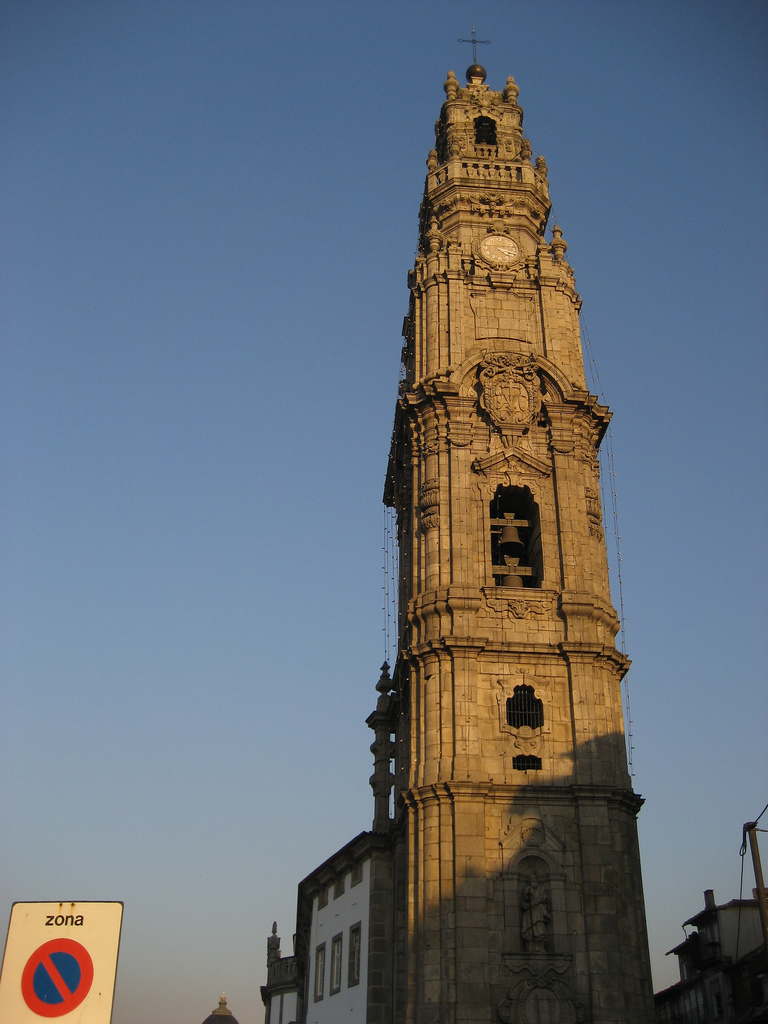clerigos: (366, 29, 657, 1023)
